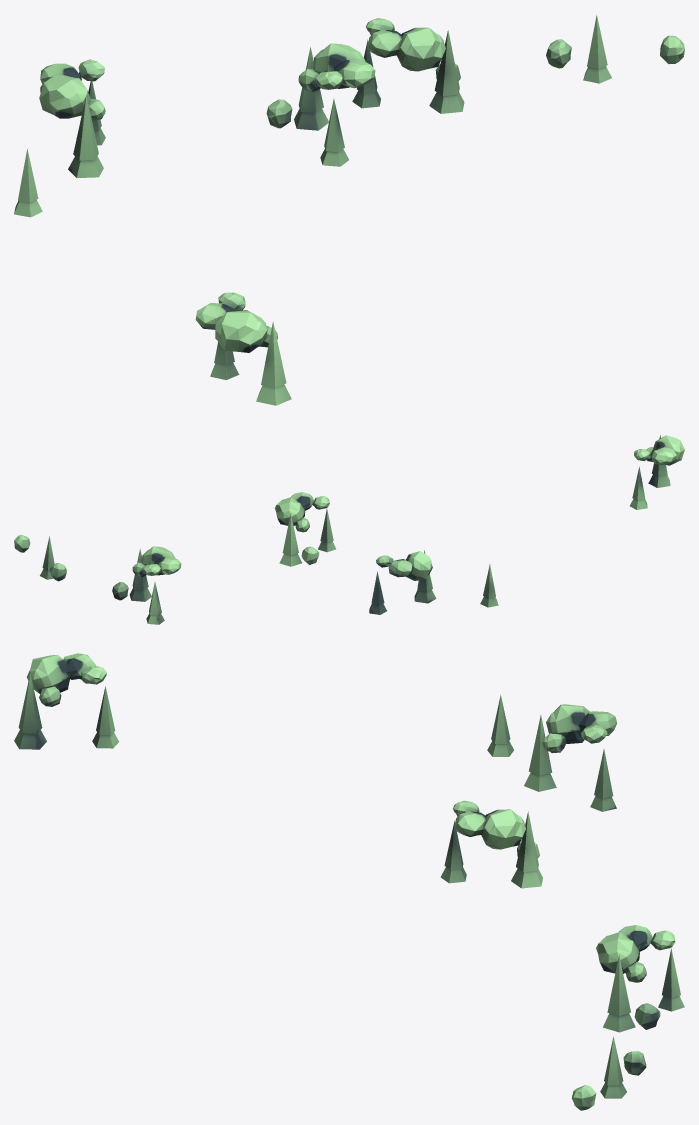
The model's file is Wood_01.FBX.
3 views of the same model, one above another, from view 1: azimuth 30°, elevation 25°; view 2: azimuth 150°, elevation 25°; view 3: azimuth 270°, elevation 25° (orthographic). The views are drawn at different scales.
Visible parts, largest first — view 1: Wood_01; view 2: Wood_01; view 3: Wood_01.
Part boxes in pixels (left/top/right/bottom): Wood_01: left=14, top=15, right=684, bottom=405; Wood_01: left=14, top=435, right=684, bottom=624; Wood_01: left=14, top=653, right=684, bottom=1110.
Bounding box in the file's own units: 32.18 × 6.2 × 26.85.
